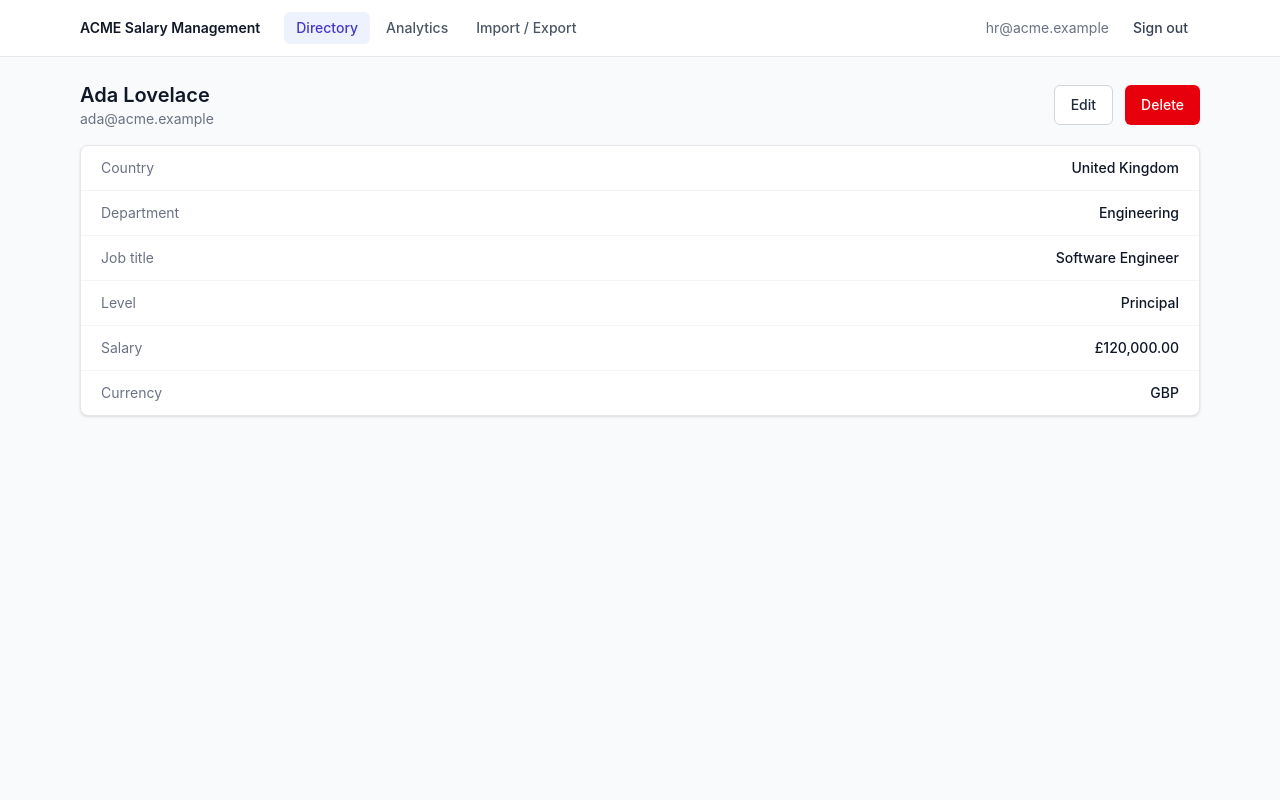
Test: delete employee › confirms in a dialog, deletes, and returns to the directory
This screenshot has width=1280, height=800.
Click the button "Delete". click: (1163, 105)
box: left=1125, top=85, right=1200, bottom=125
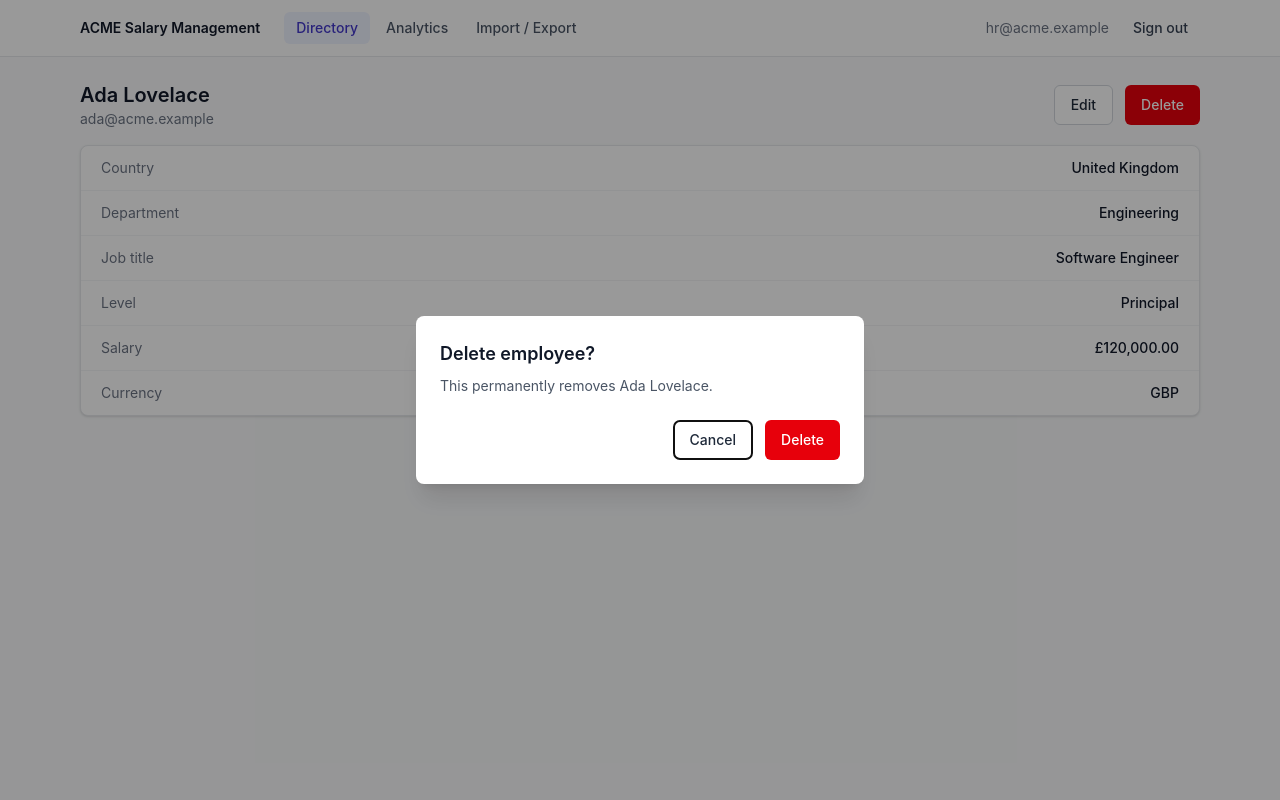
Note: Confirm inside the dialog (the second "Delete" button).
Click the button "Delete". click: (803, 440)
box: left=765, top=420, right=840, bottom=460
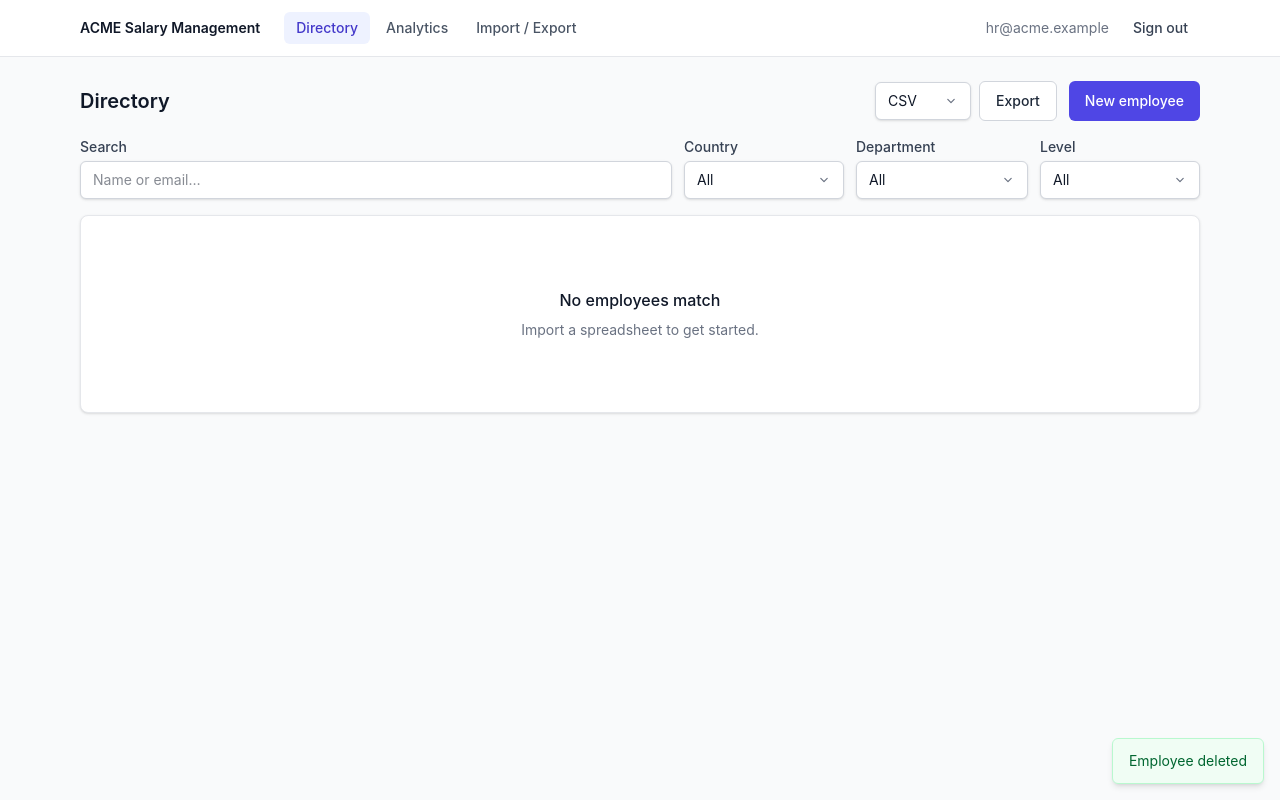
Expected: the heading "Directory" is shown, left=80, top=87, right=170, bottom=115
